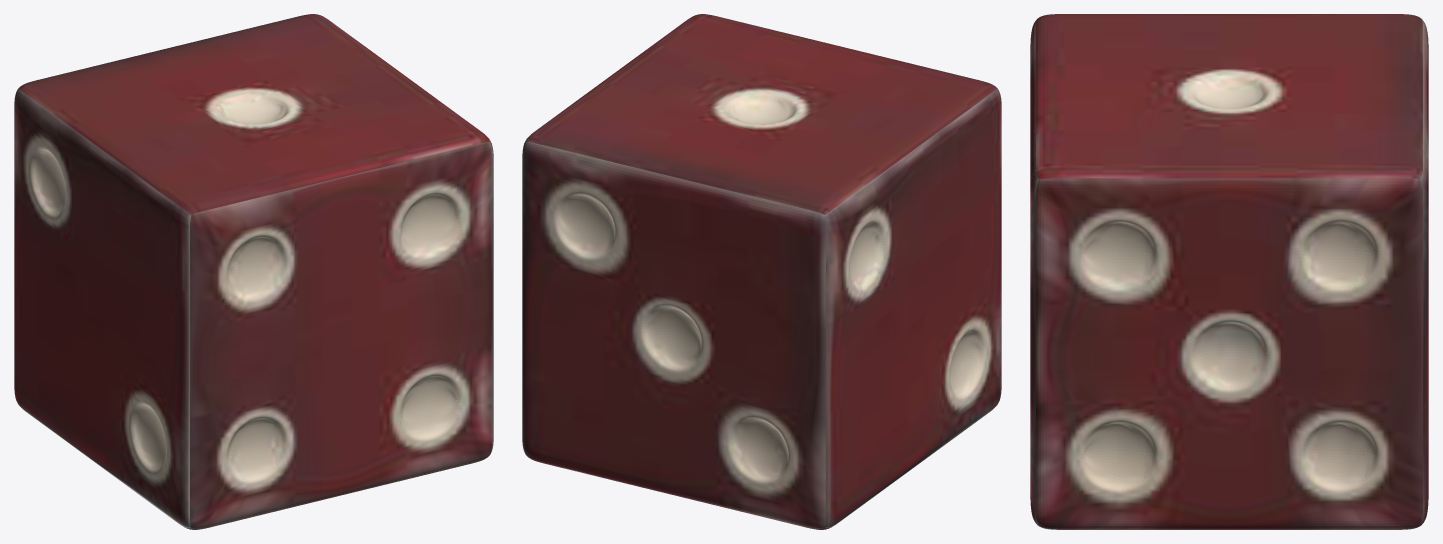
File: wuerfel.fbx
3 renders of one model, left to right at view 1: azimuth 30°, elevation 25°; view 2: azimuth 150°, elevation 25°; view 3: azimuth 270°, elevation 25°, orthographic. The views are drawn at different scales.
Visible parts, largest first — view 1: Spielwürfel; view 2: Spielwürfel; view 3: Spielwürfel.
Boxes of the visible parts, x1,y1,x2,y2 form: Spielwürfel: [14, 14, 493, 529]; Spielwürfel: [522, 14, 1001, 529]; Spielwürfel: [1030, 14, 1428, 529].
Bounding box in the file's own units: 200 × 200 × 200.
